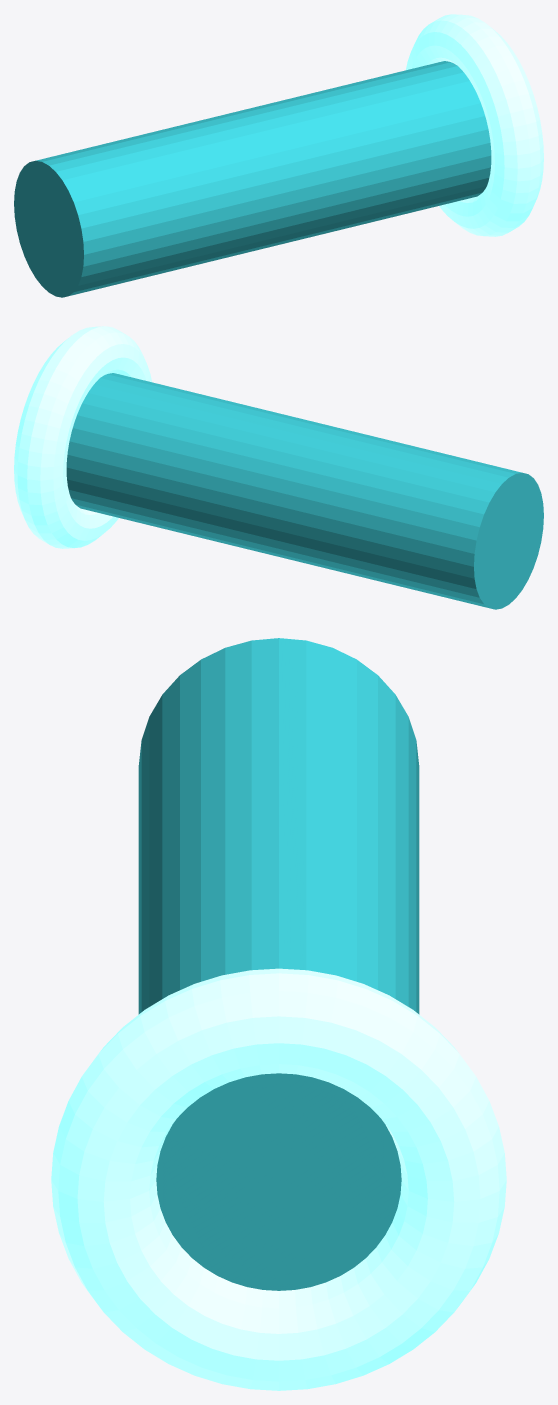
The model's file is prop_impulse_debugger.glb.
The picture shows the model from 3 angles, top to bottom: view 1: azimuth 30°, elevation 25°; view 2: azimuth 150°, elevation 25°; view 3: azimuth 270°, elevation 25°; orthographic projection. The views are drawn at different scales.
Parts seen in each view (by area): view 1: ImpulseDebugger; view 2: ImpulseDebugger; view 3: ImpulseDebugger.
Boxes of the visible parts, <box> form: ImpulseDebugger: <box>14,14,543,297</box>; ImpulseDebugger: <box>14,326,543,609</box>; ImpulseDebugger: <box>51,638,506,1390</box>.
Bounding box in the file's own units: 0.295 × 0.13 × 0.13.
